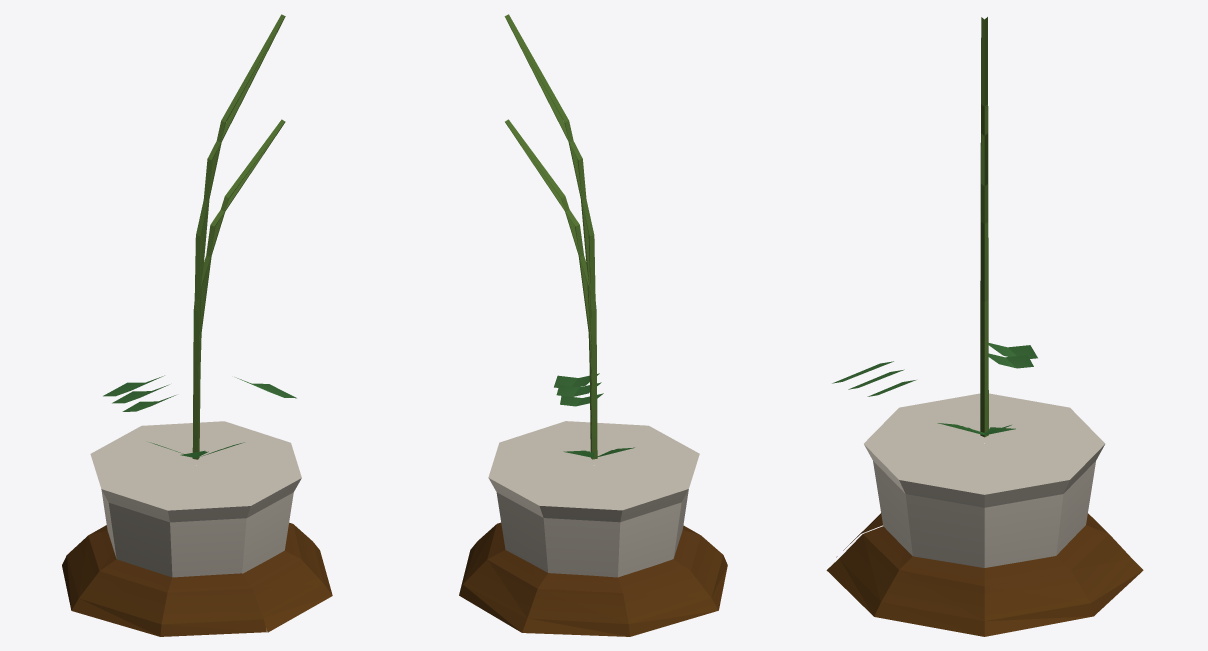
The model's file is orchid.glb.
3 renders of one model, left to right at view 1: azimuth 30°, elevation 25°; view 2: azimuth 150°, elevation 25°; view 3: azimuth 270°, elevation 25°, orthographic. The views are drawn at different scales.
Parts seen in each view (by area): view 1: stage2_wood, stage0_soil, stage4_l1_stem, stage4_stem, stage3_stem, stage3_l1_stem, stage4_leaf; view 2: stage2_wood, stage0_soil, stage4_l1_stem, stage4_stem, stage3_stem, stage3_l1_stem; view 3: stage2_wood, stage0_soil, stage3_stem, stage3_l1_stem, stage4_leaf, stage4_l1_stem.
Boxes of the visible parts, x1=… form: stage2_wood: x1=90, y1=421, x2=301, y2=577; stage0_soil: x1=62, y1=522, x2=332, y2=636; stage4_l1_stem: x1=192, y1=16, x2=285, y2=452; stage4_stem: x1=194, y1=14, x2=284, y2=458; stage3_stem: x1=198, y1=119, x2=284, y2=451; stage3_l1_stem: x1=192, y1=121, x2=285, y2=459; stage4_leaf: x1=103, y1=375, x2=296, y2=455; stage2_wood: x1=488, y1=421, x2=699, y2=577; stage0_soil: x1=459, y1=522, x2=727, y2=636; stage4_l1_stem: x1=504, y1=16, x2=597, y2=456; stage4_stem: x1=505, y1=14, x2=595, y2=458; stage3_stem: x1=505, y1=119, x2=591, y2=452; stage3_l1_stem: x1=505, y1=122, x2=597, y2=459; stage2_wood: x1=864, y1=393, x2=1105, y2=567; stage0_soil: x1=826, y1=513, x2=1143, y2=636; stage3_stem: x1=980, y1=146, x2=988, y2=432; stage3_l1_stem: x1=980, y1=133, x2=988, y2=301; stage4_leaf: x1=832, y1=343, x2=1037, y2=434; stage4_l1_stem: x1=980, y1=17, x2=988, y2=259.
Size of the model in its own units: 0.4489 by 0.7524 by 0.4138.
